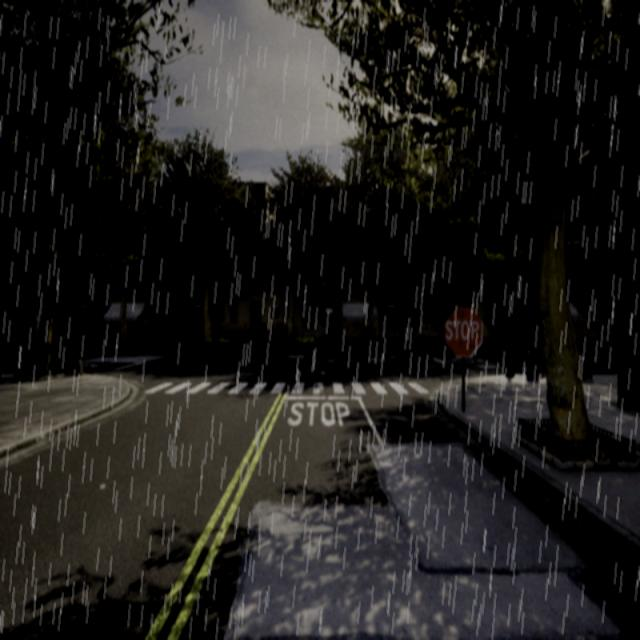stop sign: (442, 302, 484, 359)
